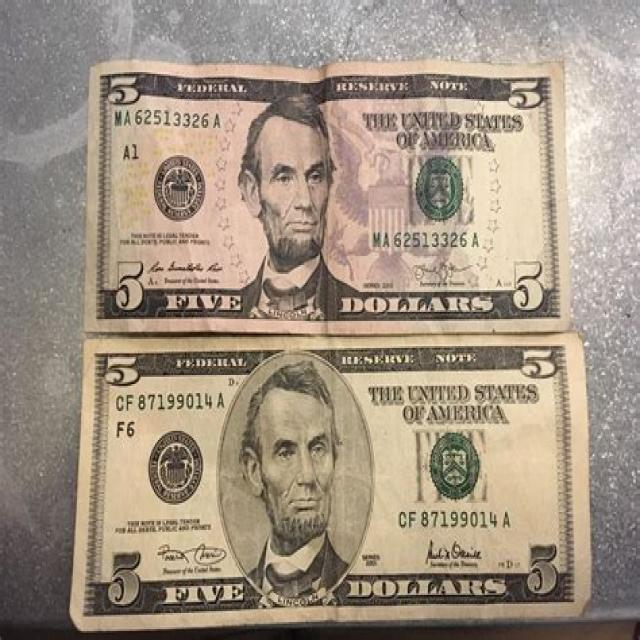Five: (73, 341, 592, 621), (86, 61, 572, 339)
